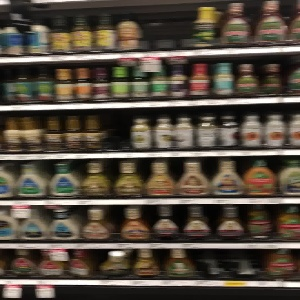void: (141, 2, 194, 51), (194, 249, 262, 280), (100, 106, 129, 151)
